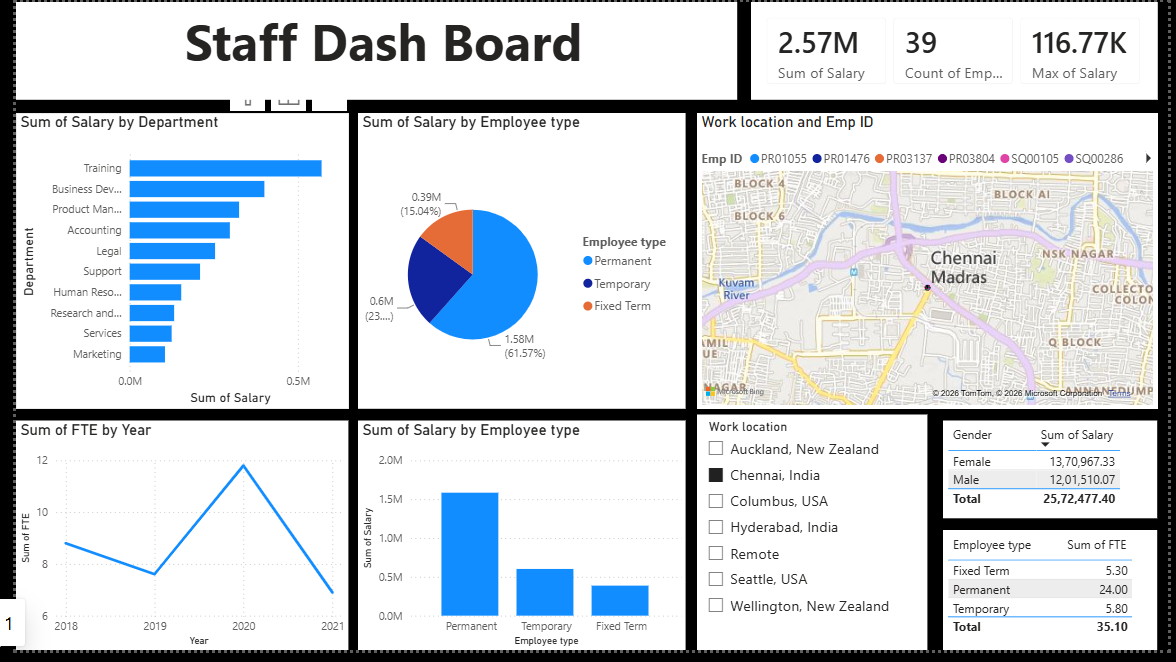

The page's visual inventory and layout, read from the dashboard file:
{"tool":"powerbi","page":{"name":"Blue professional theme","canvas":[1280,720],"ordinal":0},"visuals":[{"type":"clusteredBarChart","fields":{"Category":["Staff.Department"],"Y":["Sum(Staff.Salary)"]},"box":[0,123.1,369.2,328.7],"z":0},{"type":"tableEx","fields":{"Values":["Staff.Employee type","Sum(Staff.FTE)"]},"box":[1029.8,586.2,238,134.4],"z":1000},{"type":"cardVisual","fields":{"Data":["Sum(Staff.Salary)","CountNonNull(Staff.Emp ID)","Max(Staff.Salary)"]},"box":[816.1,0,451.8,108.5],"z":2000},{"type":"pieChart","fields":{"Y":["Sum(Staff.Salary)"],"Category":["Staff.Employee type"]},"box":[380.5,123.1,364.3,328.7],"z":3000},{"type":"map","fields":{"Series":["Staff.Emp ID"],"Category":["Staff.Work location"]},"box":[756.2,123.1,511.7,328.7],"z":4000},{"type":"columnChart","fields":{"Category":["Staff.Employee type"],"Y":["Sum(Staff.Salary)"]},"box":[380.5,464.7,364.3,255.8],"z":5000},{"type":"tableEx","fields":{"Values":["Staff.Gender","Sum(Staff.Salary)"]},"box":[1029.8,464.7,238,108.5],"z":6000},{"type":"slicer","fields":{"Values":["Staff.Work location"]},"box":[756.2,458.2,255.8,262.3],"z":7000},{"type":"lineChart","fields":{"Category":["Staff.Start Date.Variation.Date Hierarchy.Year","Staff.Start Date.Variation.Date Hierarchy.Quarter","Staff.Start Date.Variation.Date Hierarchy.Month","Staff.Start Date.Variation.Date Hierarchy.Day"],"Y":["Sum(Staff.FTE)"]},"box":[0,464.7,369.2,255.8],"z":8000},{"type":"textbox","box":[0,0,801.5,108.5],"z":9000}]}

Visuals, with their boxes in screenshot pixels (x1, y1, x2, y2), scaled from the page's 1280x720 canvas onto the 1176x662 screenshot:
clusteredBarChart - Staff.Department x Sum(Staff.Salary): (left=0, top=113, right=339, bottom=415)
tableEx - Staff.Employee type x Sum(Staff.FTE): (left=946, top=539, right=1165, bottom=661)
cardVisual - Sum(Staff.Salary) x CountNonNull(Staff.Emp ID): (left=750, top=0, right=1165, bottom=100)
pieChart - Sum(Staff.Salary) x Staff.Employee type: (left=350, top=113, right=684, bottom=415)
map - Staff.Emp ID x Staff.Work location: (left=695, top=113, right=1165, bottom=415)
columnChart - Staff.Employee type x Sum(Staff.Salary): (left=350, top=427, right=684, bottom=661)
tableEx - Staff.Gender x Sum(Staff.Salary): (left=946, top=427, right=1165, bottom=527)
slicer - Staff.Work location: (left=695, top=421, right=930, bottom=661)
lineChart - Staff.Start Date.Variation.Date Hierarchy.Year x Staff.Start Date.Variation.Date Hierarchy.Quarter: (left=0, top=427, right=339, bottom=661)
textbox: (left=0, top=0, right=736, bottom=100)
